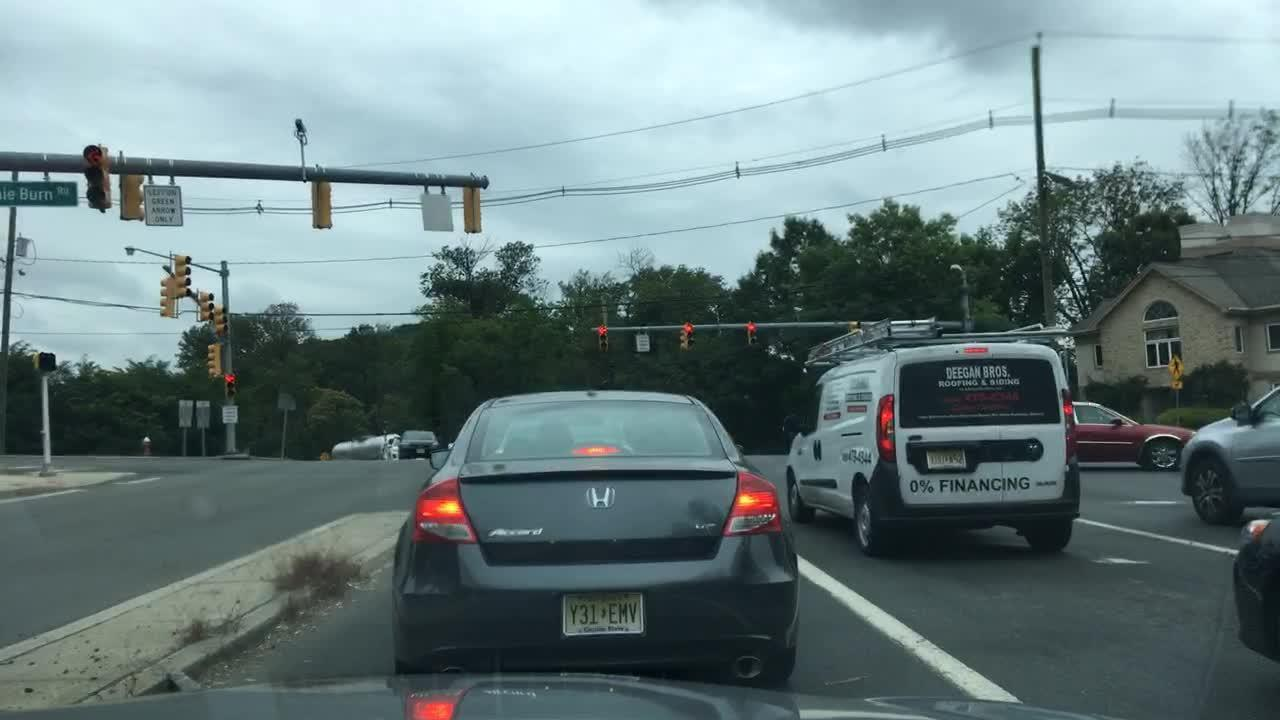Honda: (581, 479, 622, 516)
